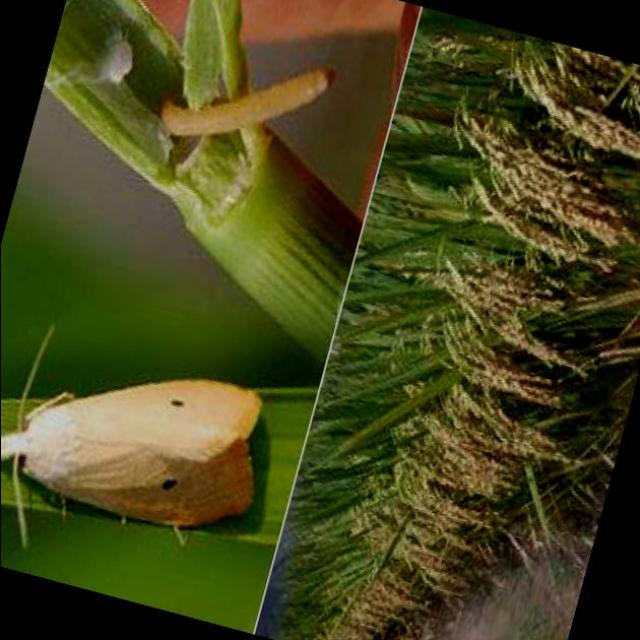stem borer: (0, 327, 260, 545), (159, 70, 331, 138)
